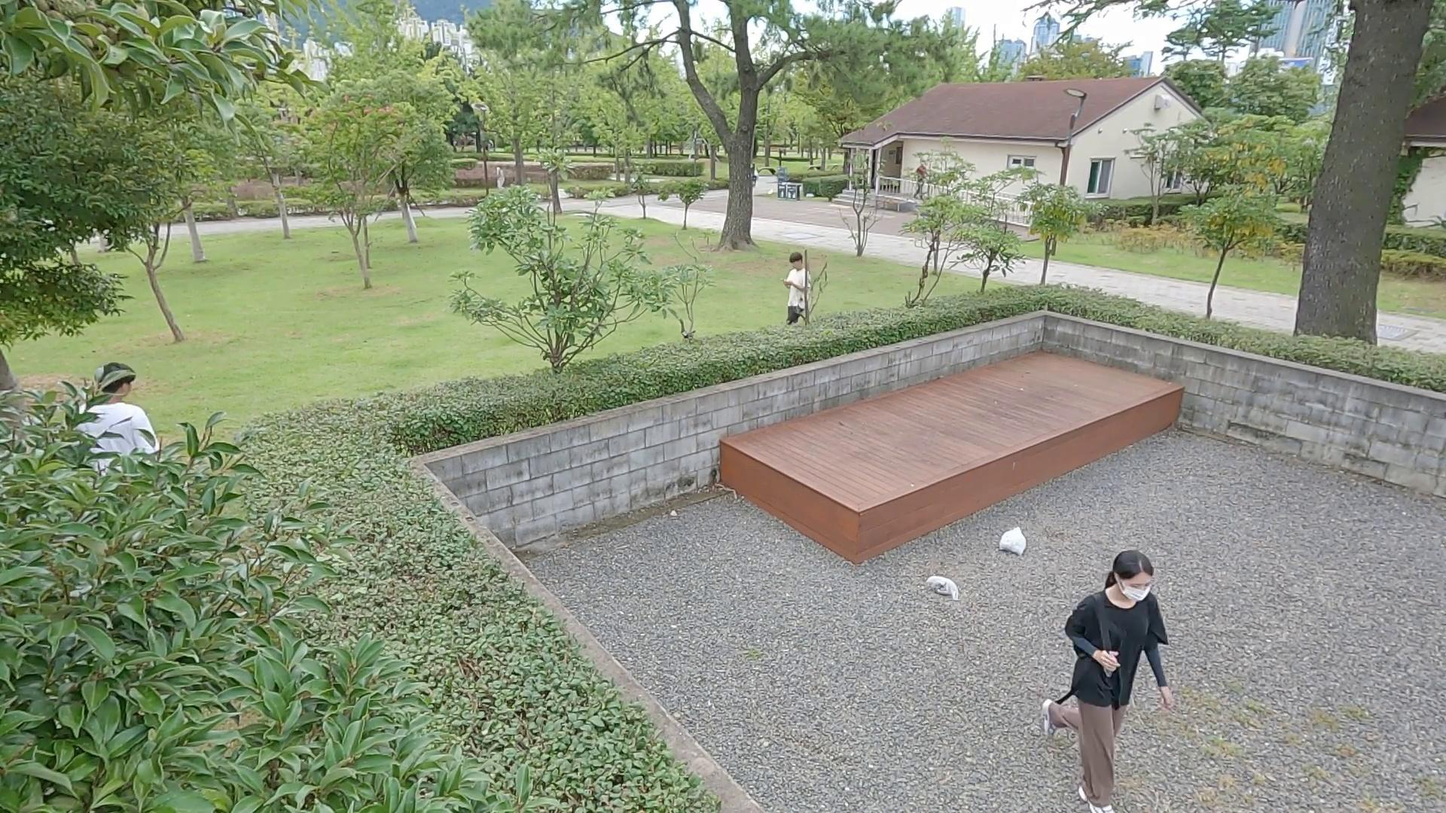person: (1041, 548, 1175, 813), (63, 356, 160, 481), (787, 246, 814, 330)
trash: (998, 522, 1029, 560), (925, 570, 960, 600)
